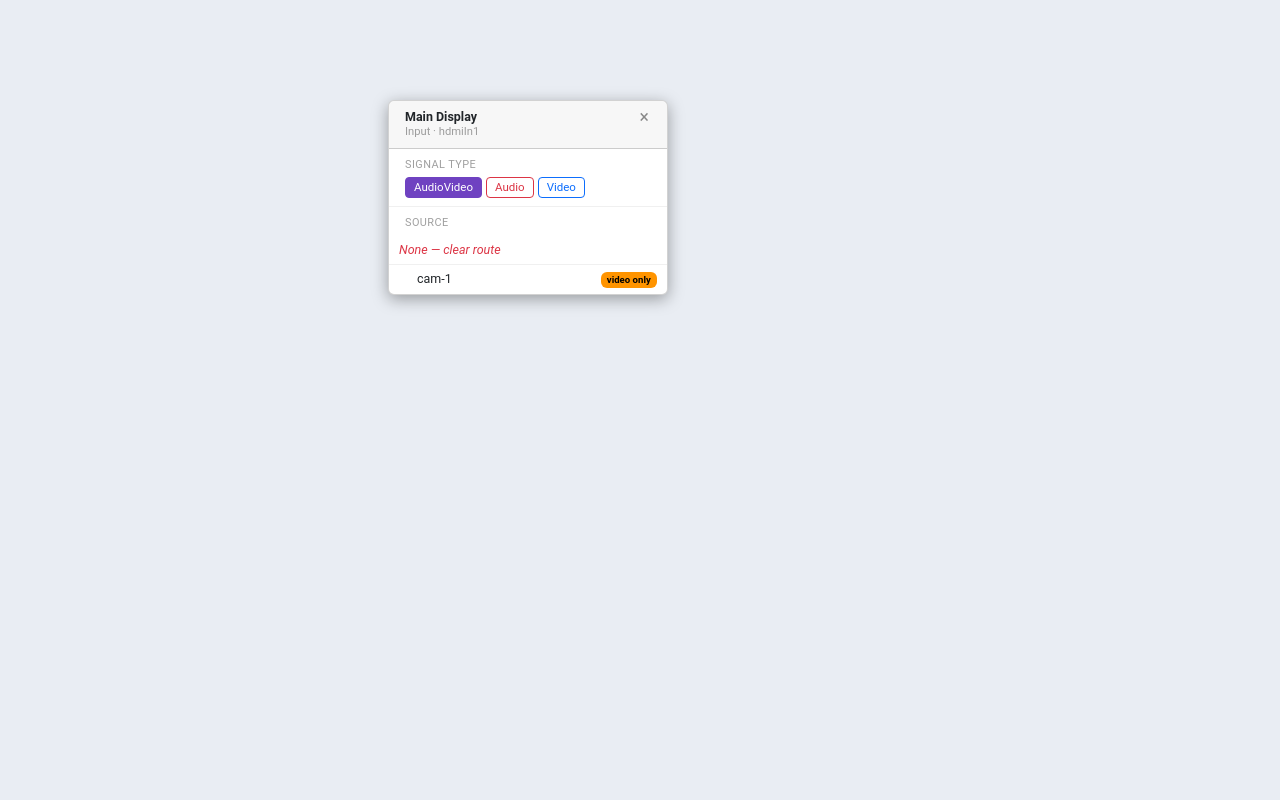
Test case: sink routing › does not badge anything once the request is narrowed to one atom
Click the button "Video".
click(561, 188)  # box x1=538 y1=177 x2=585 y2=198
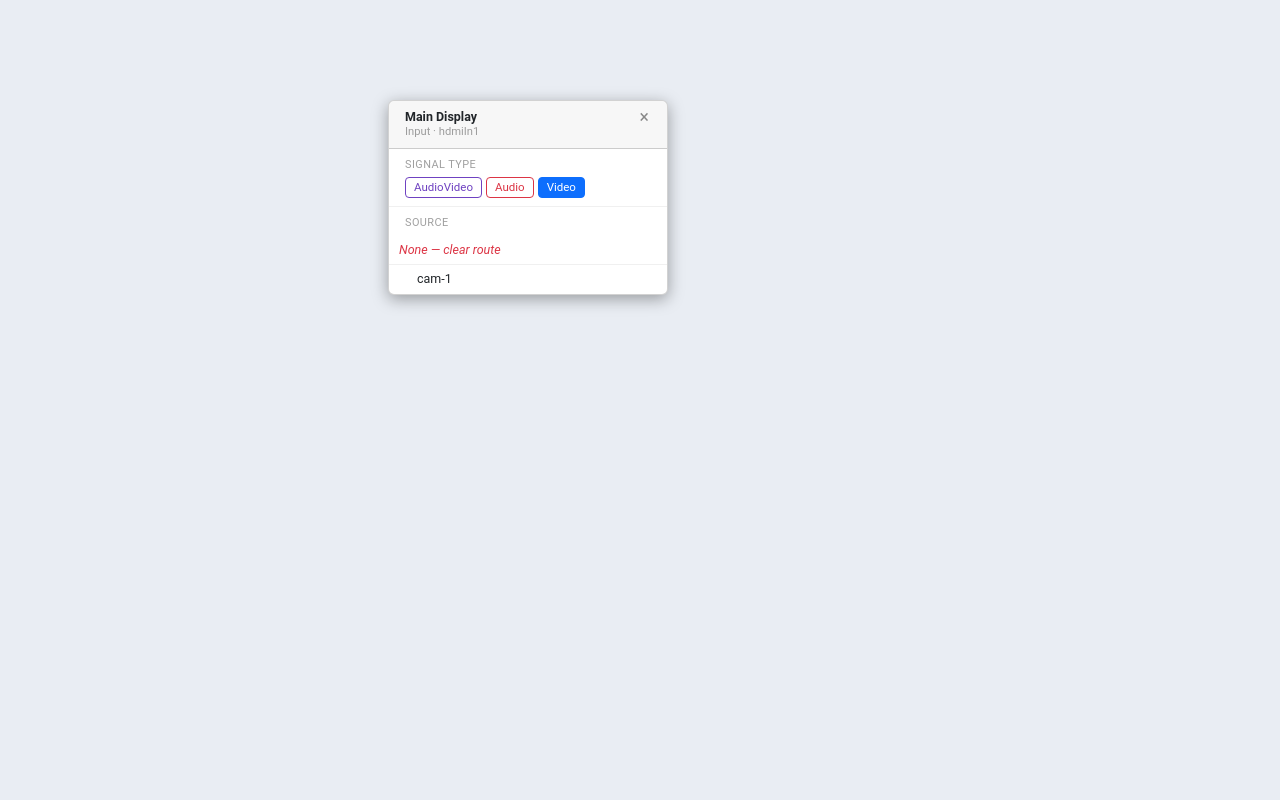
Expected: the text "only" is gone
